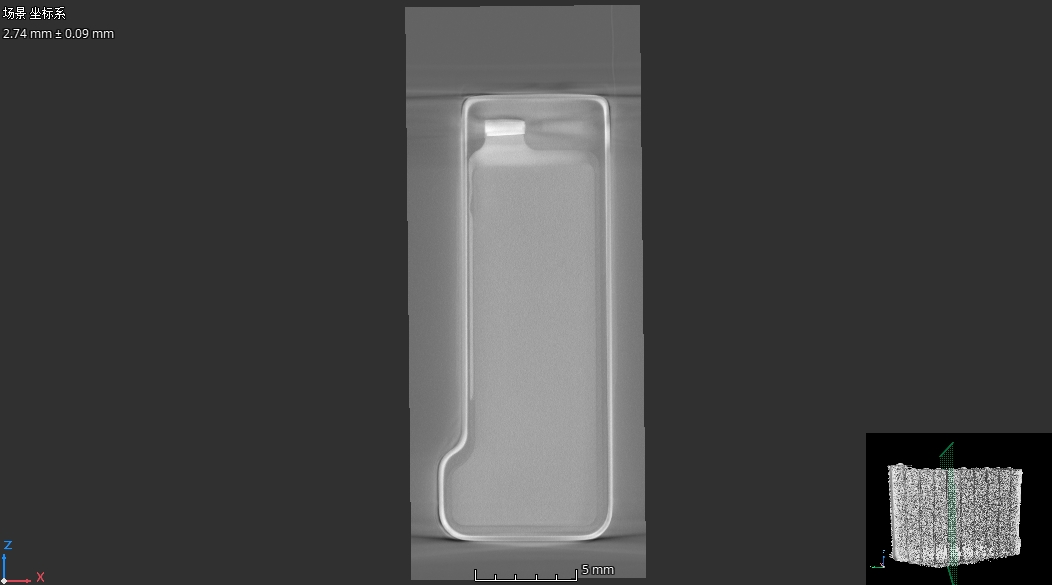damage: (465, 157, 478, 221)
